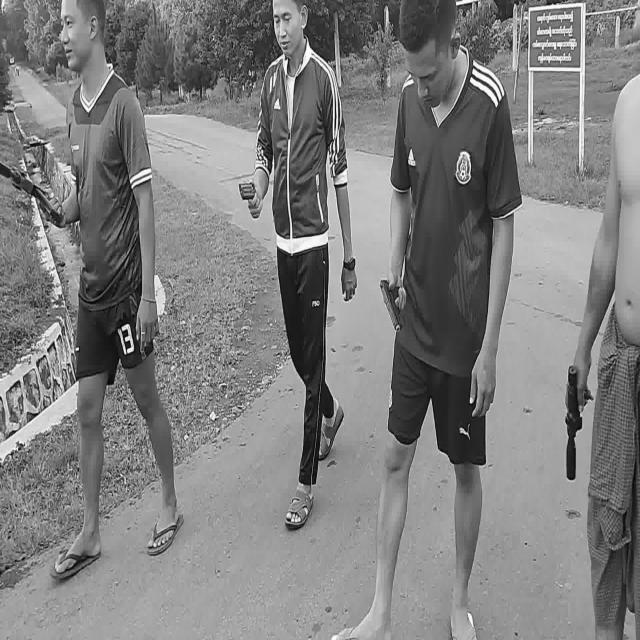gun: (1, 164, 60, 225), (381, 280, 402, 333)
